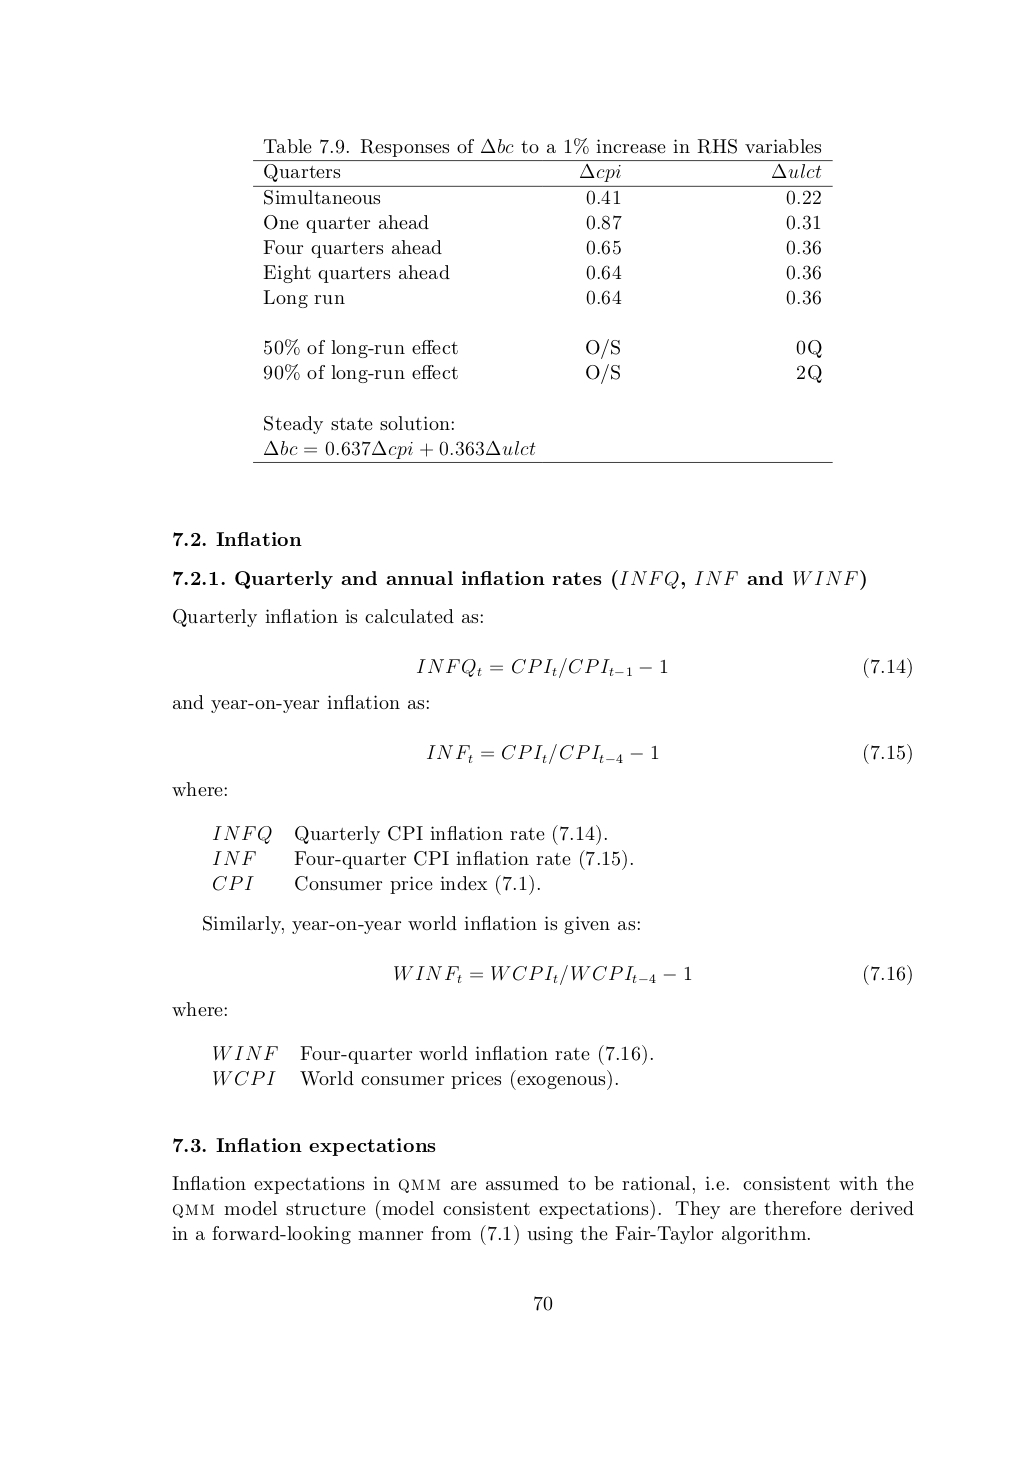Table: (254, 138, 832, 462)
formula: (394, 964, 911, 985), (415, 657, 911, 678), (426, 743, 911, 764)
